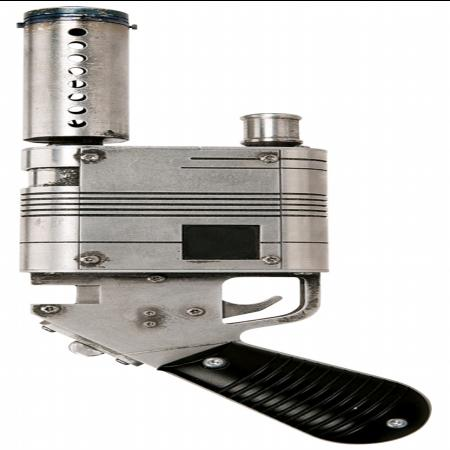Pistol: (29, 9, 427, 435)
